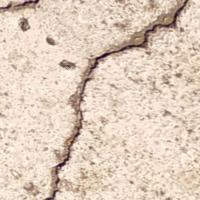crack: (35, 0, 187, 199)
